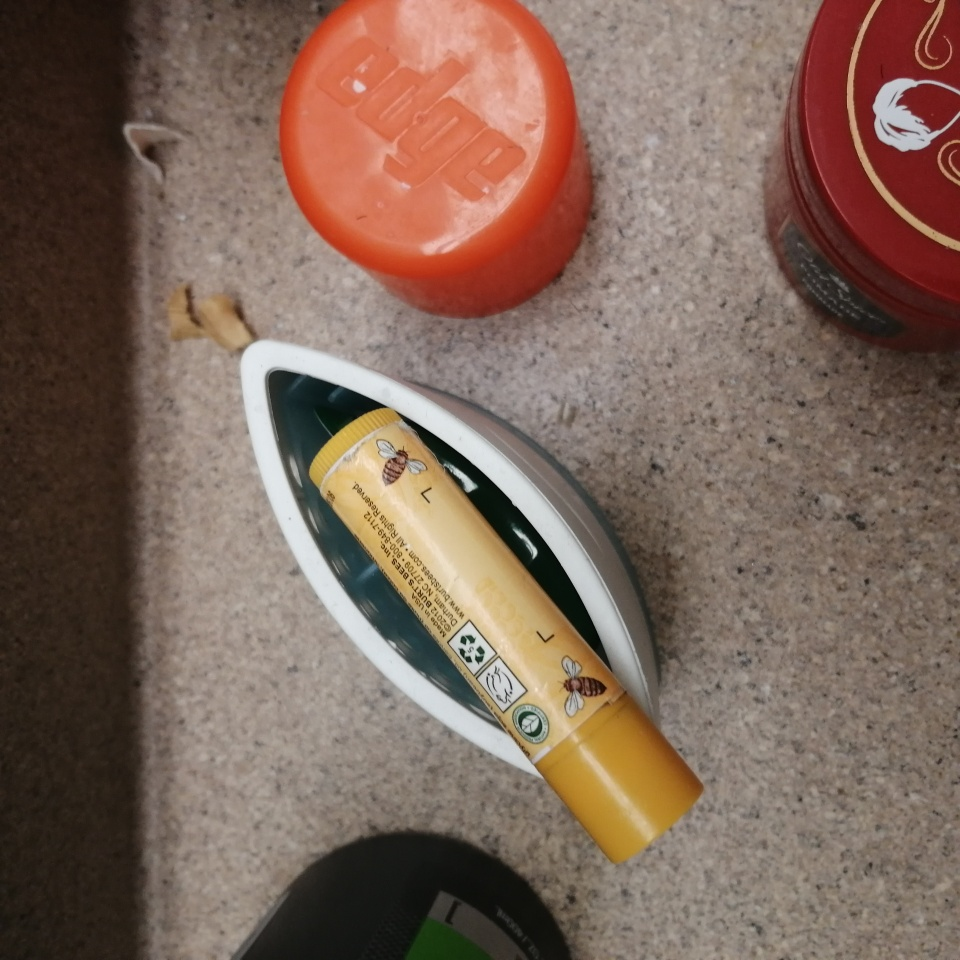chapstick: (307, 407, 707, 868)
